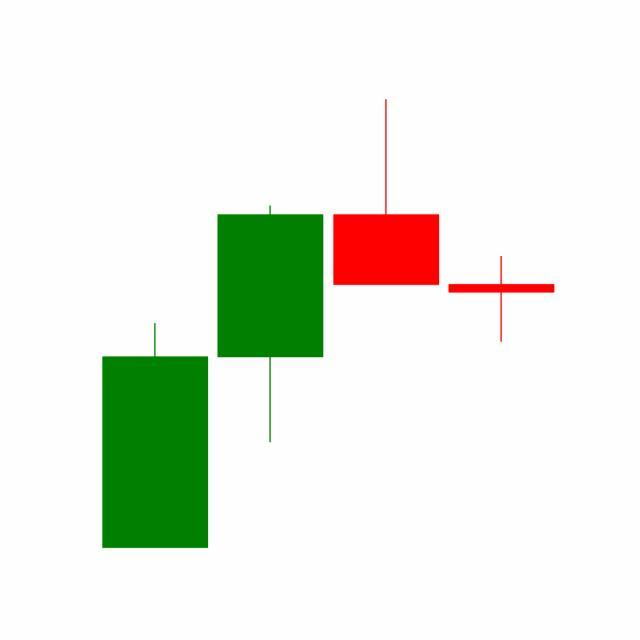Spinning Top: (444, 256, 560, 344)
